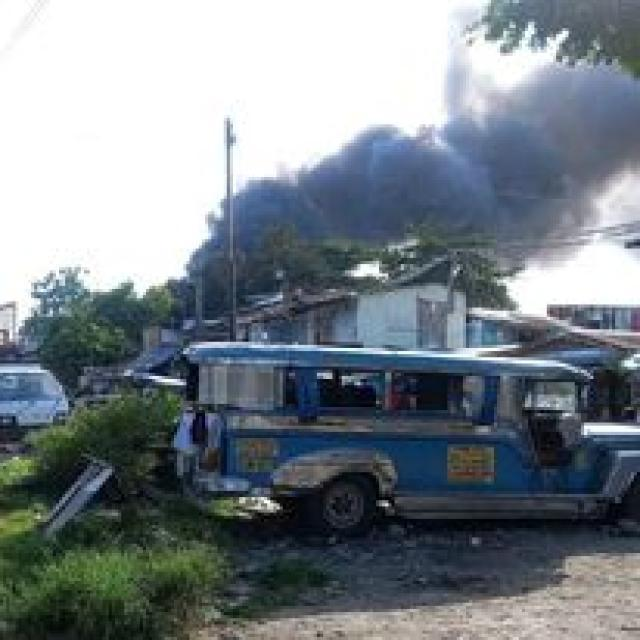Smoke: (328, 138, 566, 242), (497, 59, 640, 190), (213, 176, 357, 222)
